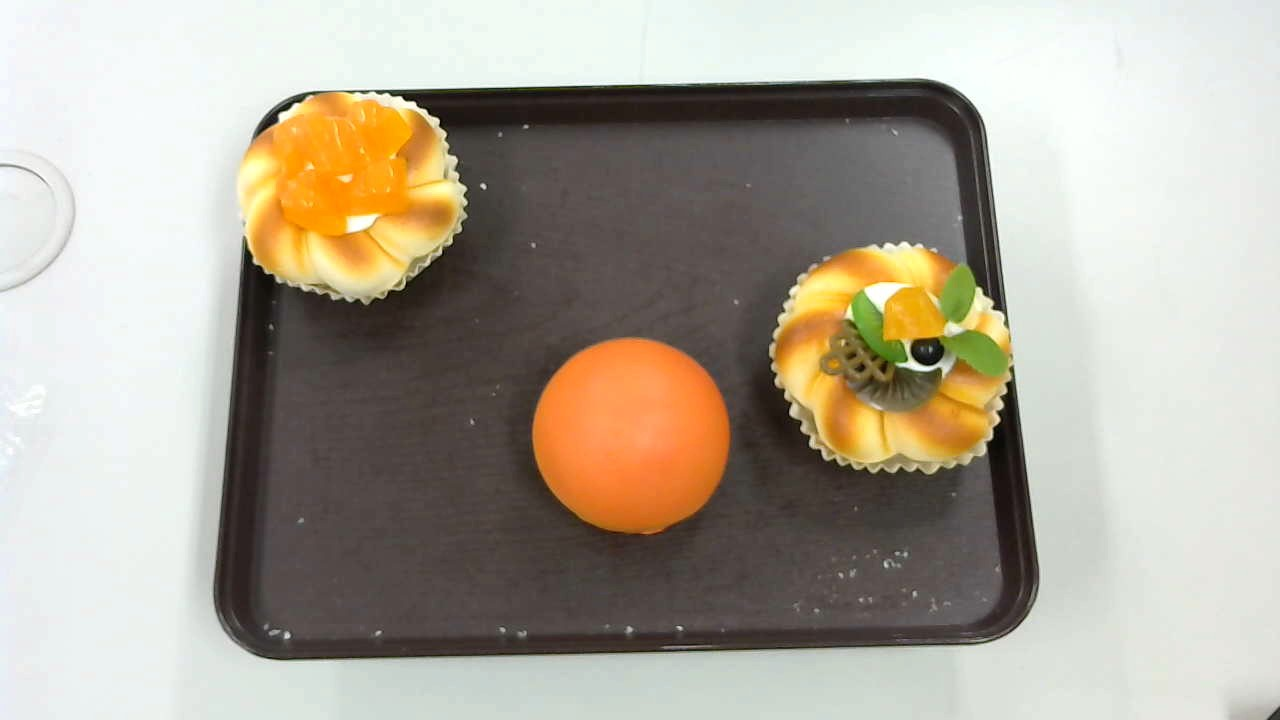bun: (533, 336, 727, 537)
fruit tart: (770, 241, 1014, 474)
mango tart: (236, 92, 468, 305)
